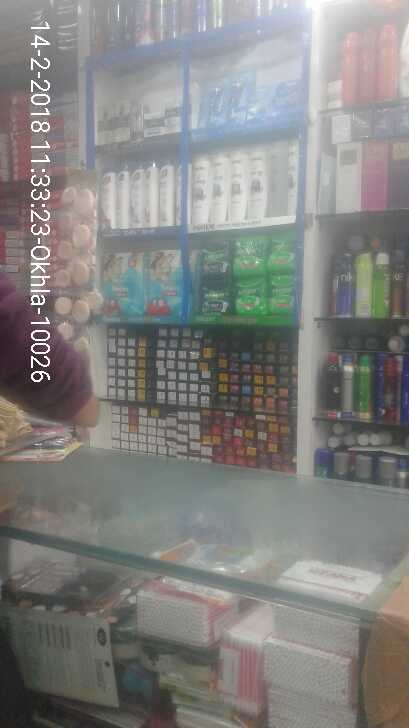venus: (224, 72, 245, 122), (274, 80, 299, 115), (203, 83, 224, 122), (250, 90, 274, 115)
